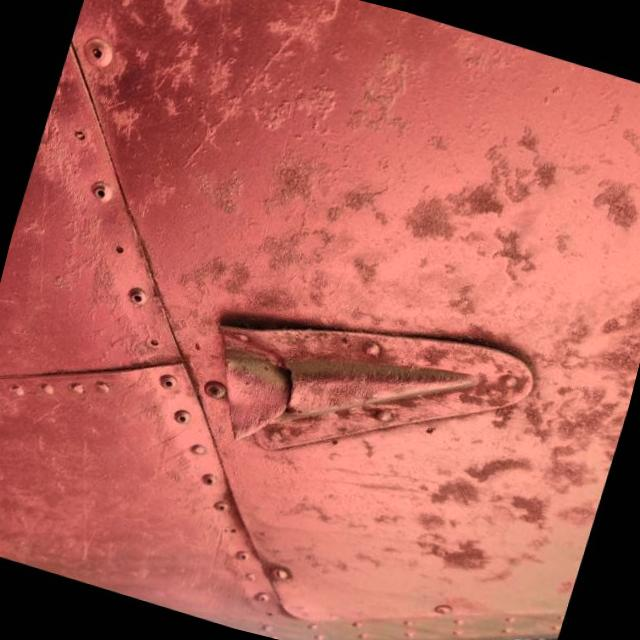Missing Fastener: (144, 326, 172, 355), (64, 120, 95, 142), (108, 238, 132, 260), (225, 517, 245, 538)
